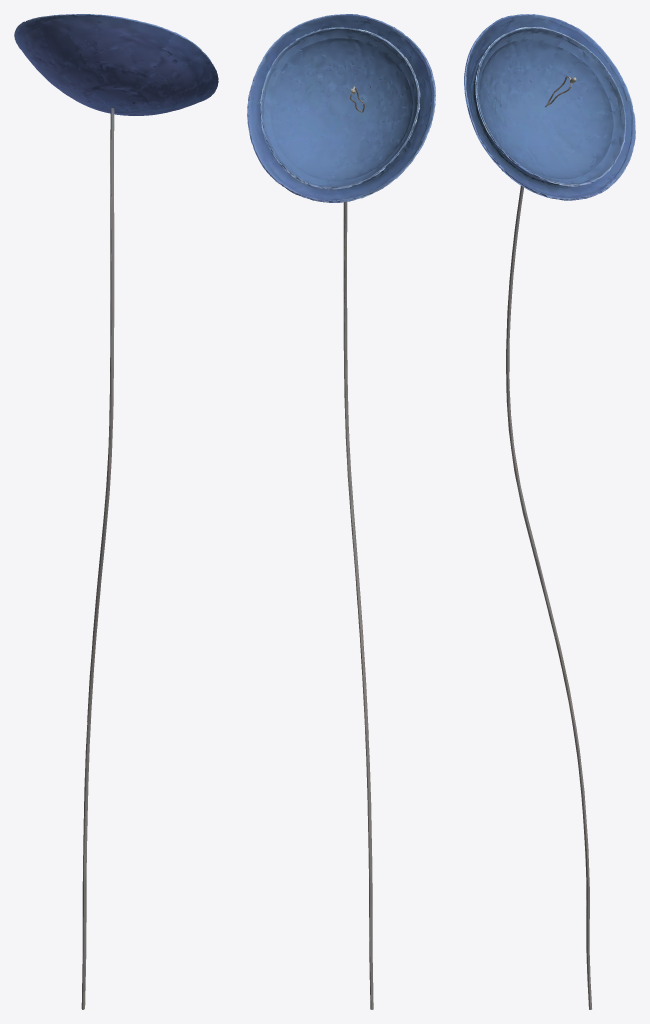
File: 11_6_hamu_cnk_mvi-opt-v61.glb
3 renders of one model, left to right at view 1: azimuth 30°, elevation 25°; view 2: azimuth 210°, elevation 25°; view 3: azimuth 270°, elevation 25°, orthographic. The views are drawn at different scales.
Visible parts, largest first — view 1: tripo_node_22387682-e46e-41e9-b20e-e7e9c88a6d92.001; view 2: tripo_node_22387682-e46e-41e9-b20e-e7e9c88a6d92.001; view 3: tripo_node_22387682-e46e-41e9-b20e-e7e9c88a6d92.001.
Part boxes in pixels (x1=…): tripo_node_22387682-e46e-41e9-b20e-e7e9c88a6d92.001: x1=14, y1=14, x2=218, y2=1009; tripo_node_22387682-e46e-41e9-b20e-e7e9c88a6d92.001: x1=247, y1=14, x2=435, y2=1009; tripo_node_22387682-e46e-41e9-b20e-e7e9c88a6d92.001: x1=464, y1=14, x2=635, y2=1009.
Bounding box in the file's own units: 0.0794 × 0.513 × 0.0818.
Materials: 1 (1 with a texture image).
